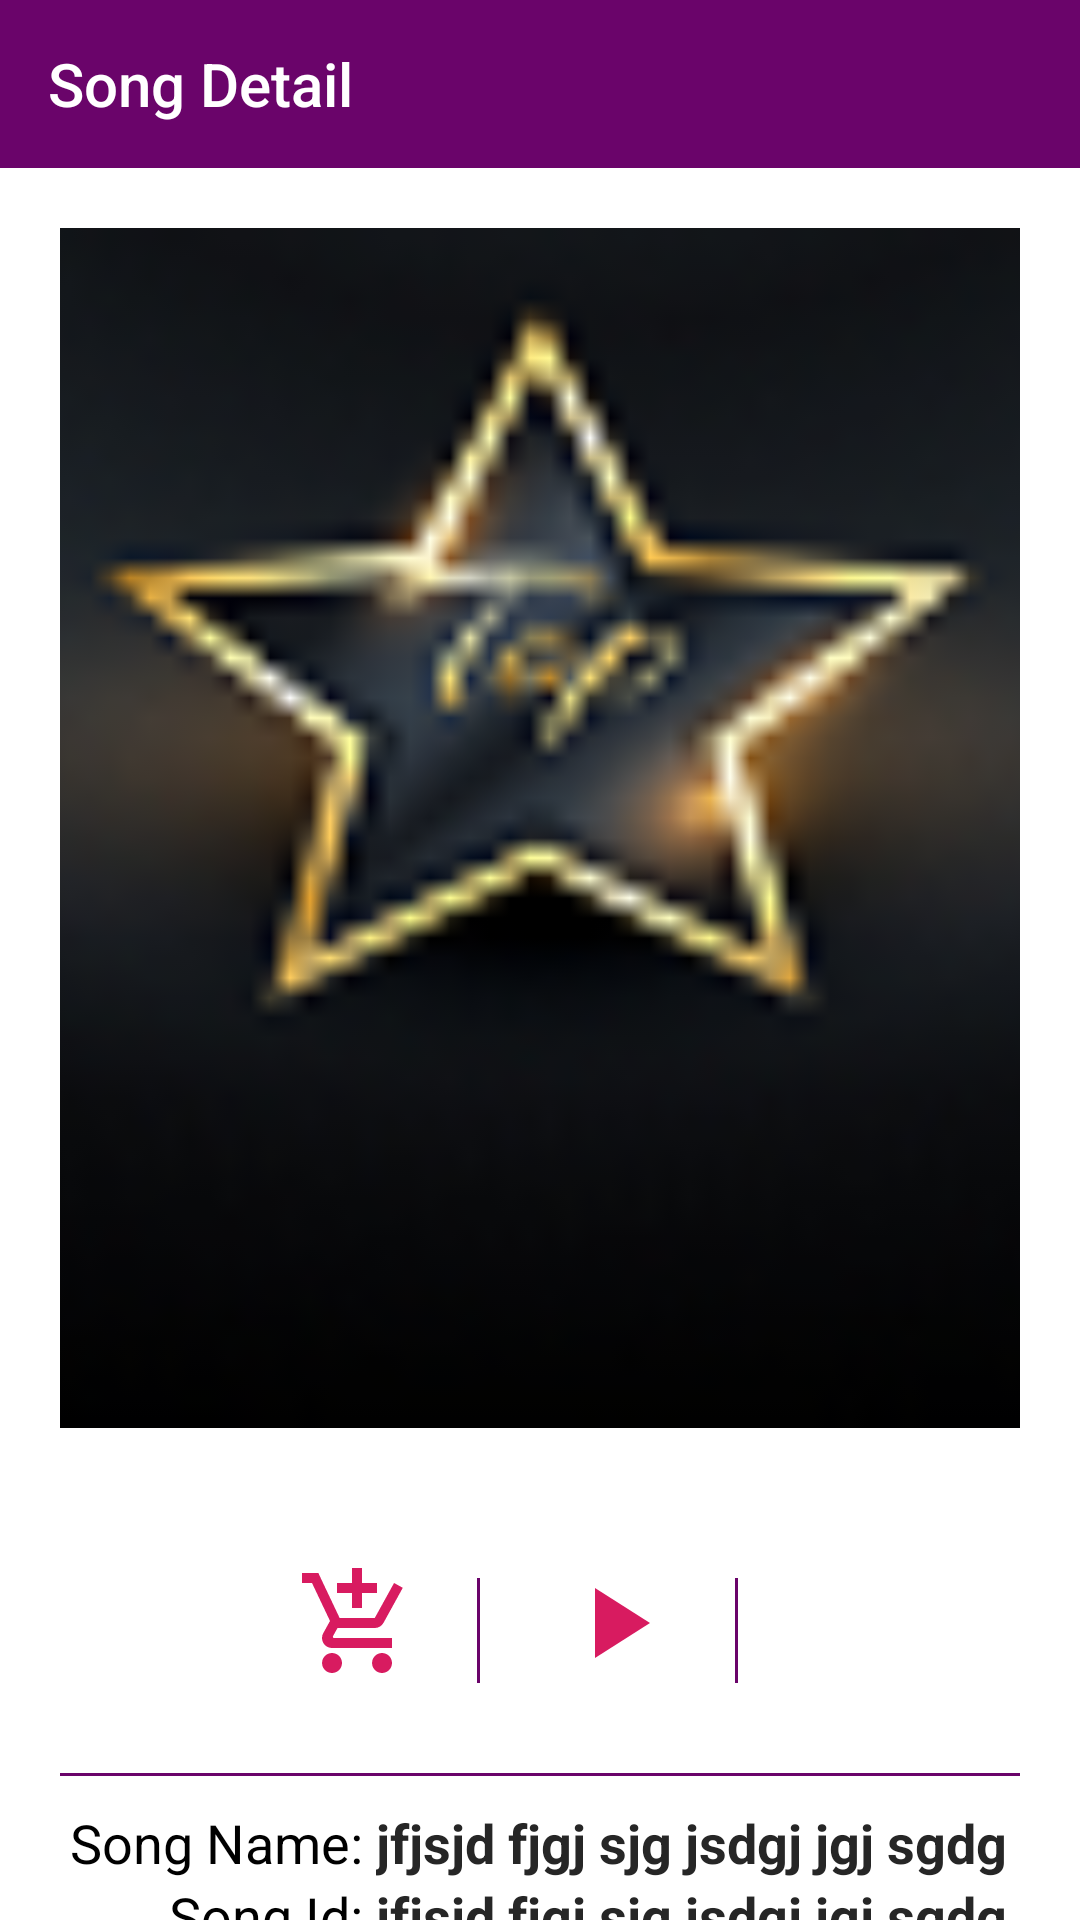

Icons on this 1080px×1920px Android screen, each with its box as (x1,y1,x2,y2):
cart: (302,1568,403,1673)
play arrow: (595,1588,650,1658)
